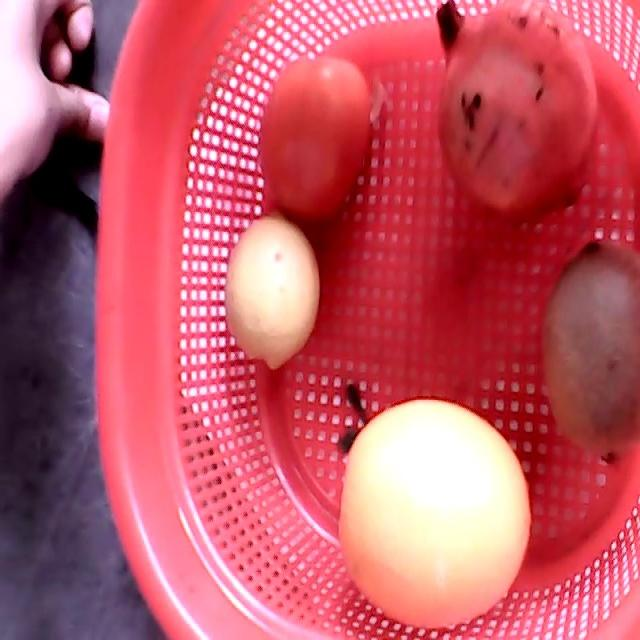kiwi: (543, 238, 639, 469)
lemon: (225, 217, 319, 370)
orange: (338, 398, 530, 626)
pomegranate: (435, 0, 596, 225)
tomato: (256, 58, 373, 217)
